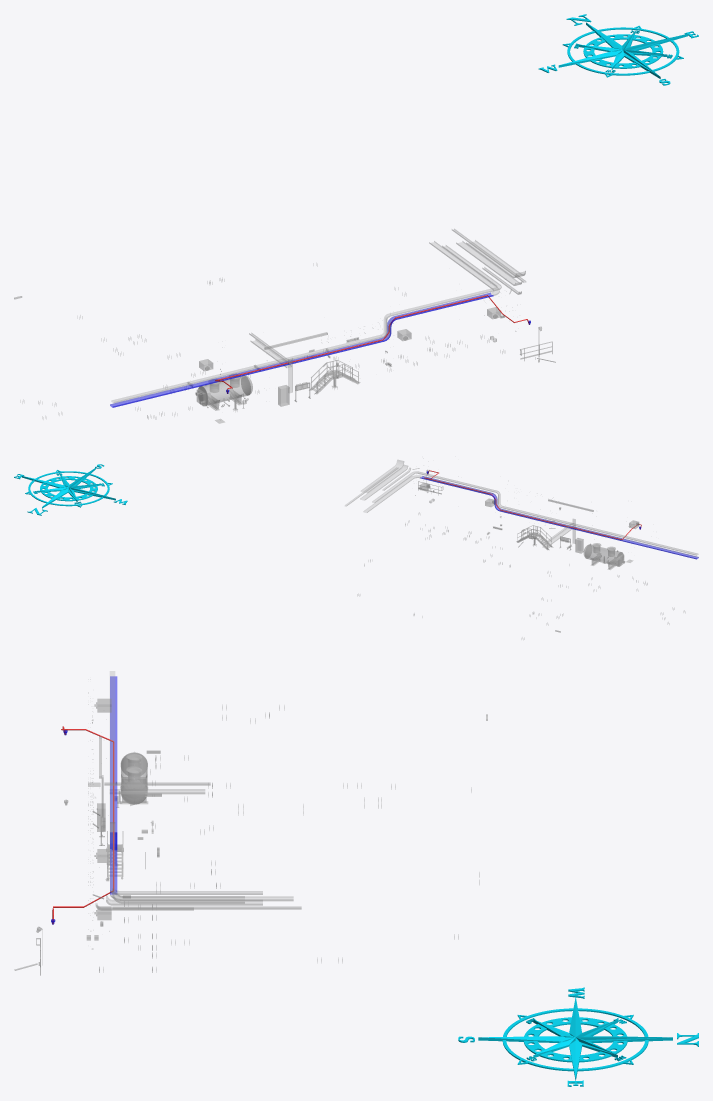
The model's file is mini_model.glb.
3 renders of one model, top to bottom at view 1: azimuth 30°, elevation 25°; view 2: azimuth 150°, elevation 25°; view 3: azimuth 270°, elevation 25°, orthographic. The views are drawn at different scales.
Parts seen in each view (by area): view 1: Compass, IfcBuildingElementProxy/None.30951, IfcBuildingElementProxy/None.31257, IfcBuildingElementProxy/None.30953, SelectedCableRoute; view 2: Compass, IfcBuildingElementProxy/None.30951, IfcBuildingElementProxy/None.31257, IfcBuildingElementProxy/None.30953, SelectedCableRoute, IfcBuildingElementProxy/None.30829; view 3: Compass, IfcBuildingElementProxy/None.30951, IfcBuildingElementProxy/None.31024, IfcBuildingElementProxy/None.30953, IfcBuildingElementProxy/None.31187, IfcBuildingElementProxy/None.30946, IfcBuildingElementProxy/None.31270, IfcBuildingElementProxy/None.31257.
Part boxes in pixels (x1,y1,x2,y2): Compass: (538,14,698,85); IfcBuildingElementProxy/None.30951: (196,375,252,409); IfcBuildingElementProxy/None.31257: (111,335,382,402); IfcBuildingElementProxy/None.30953: (110,361,289,407); SelectedCableRoute: (215,295,529,393); Compass: (14,464,127,515); IfcBuildingElementProxy/None.30951: (583,543,624,569); IfcBuildingElementProxy/None.31257: (501,506,698,555); IfcBuildingElementProxy/None.30953: (568,526,698,559); SelectedCableRoute: (424,470,641,539); IfcBuildingElementProxy/None.30829: (357,512,685,639); Compass: (458,987,698,1086); IfcBuildingElementProxy/None.30951: (120,752,147,804); IfcBuildingElementProxy/None.31024: (122,896,244,903); IfcBuildingElementProxy/None.30953: (110,676,117,788); IfcBuildingElementProxy/None.31187: (112,900,262,905); IfcBuildingElementProxy/None.30946: (112,906,301,909); IfcBuildingElementProxy/None.31270: (126,896,293,901); IfcBuildingElementProxy/None.31257: (110,671,114,821).
Size of what is drawn, in the model's own units: 85.43 by 10.1 by 49.25.
